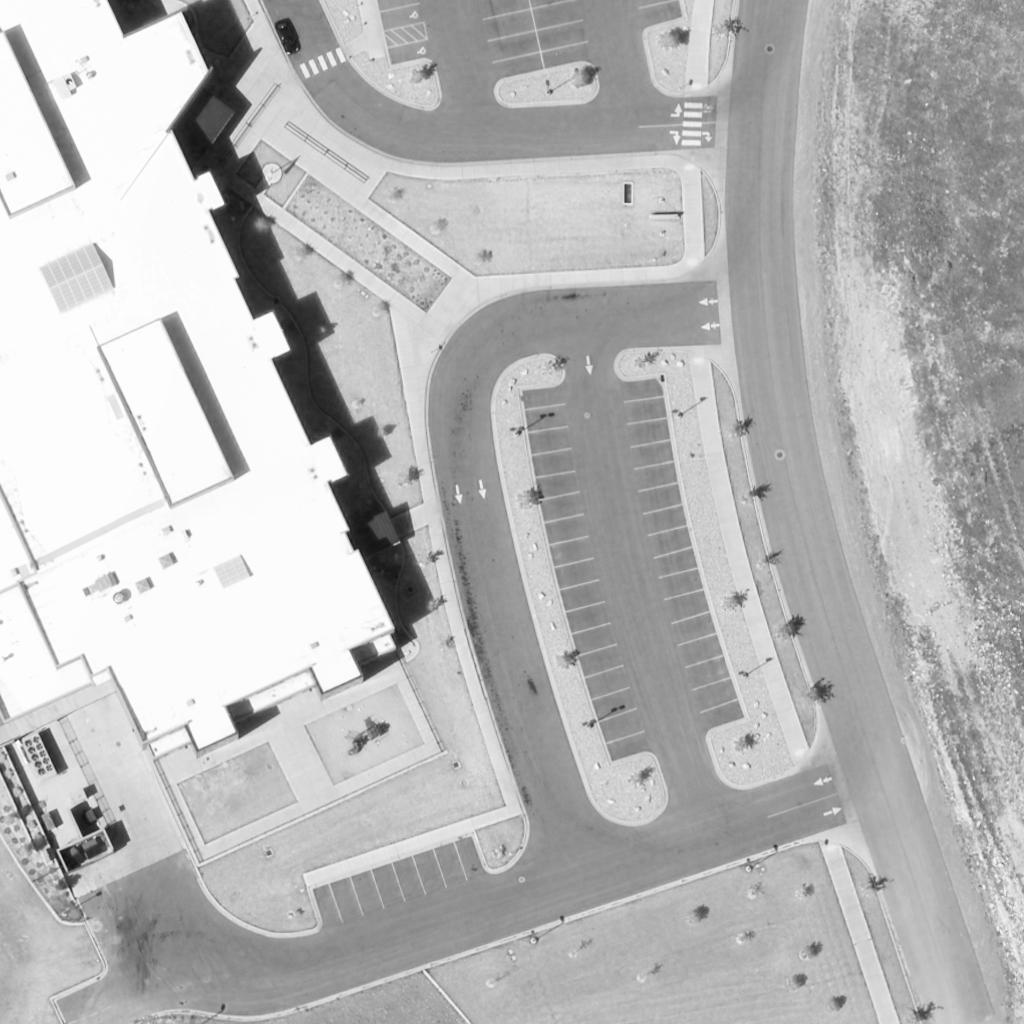vehicle: (273, 19, 303, 57)
